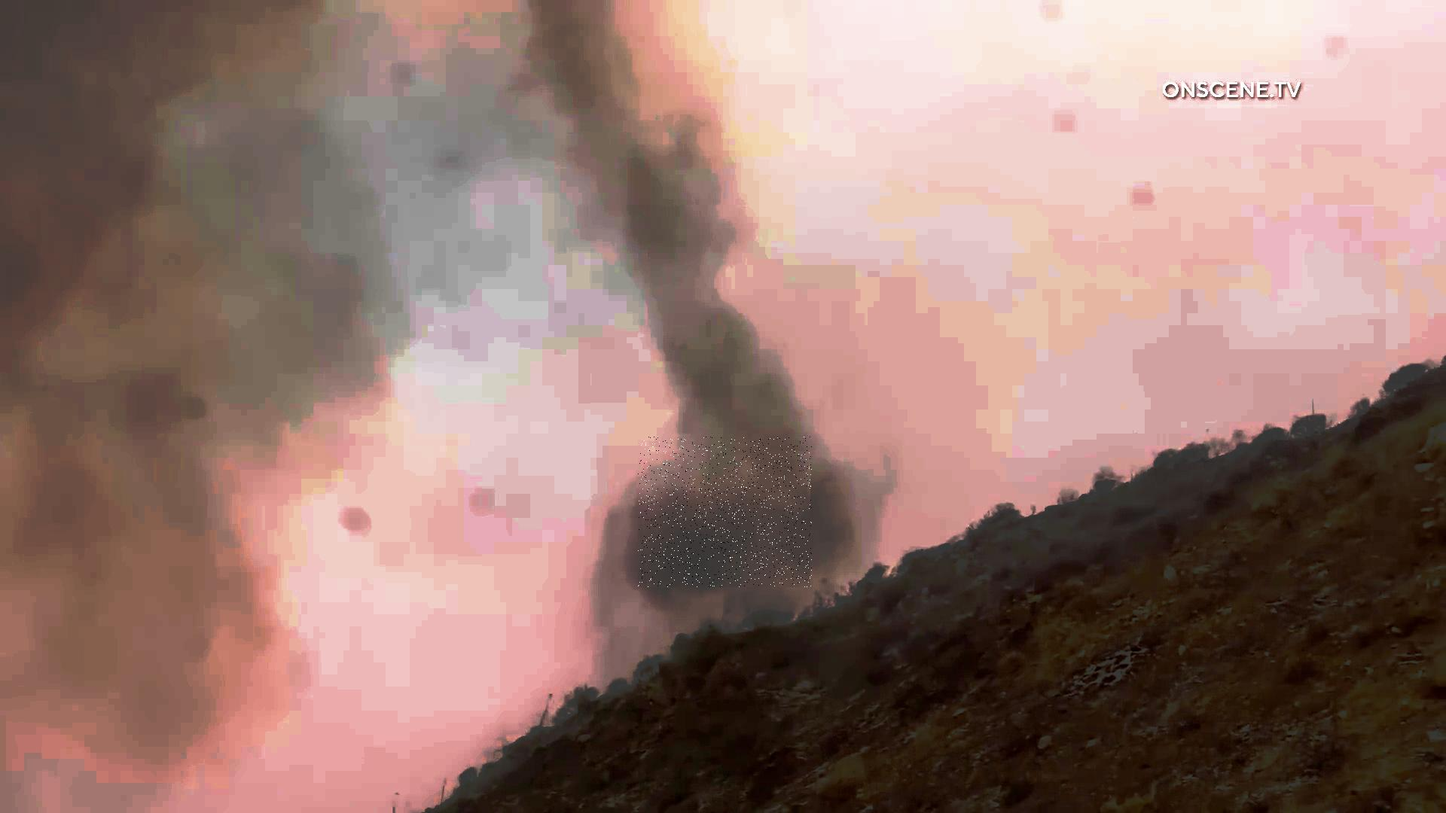smoke: (639, 437, 813, 587)
